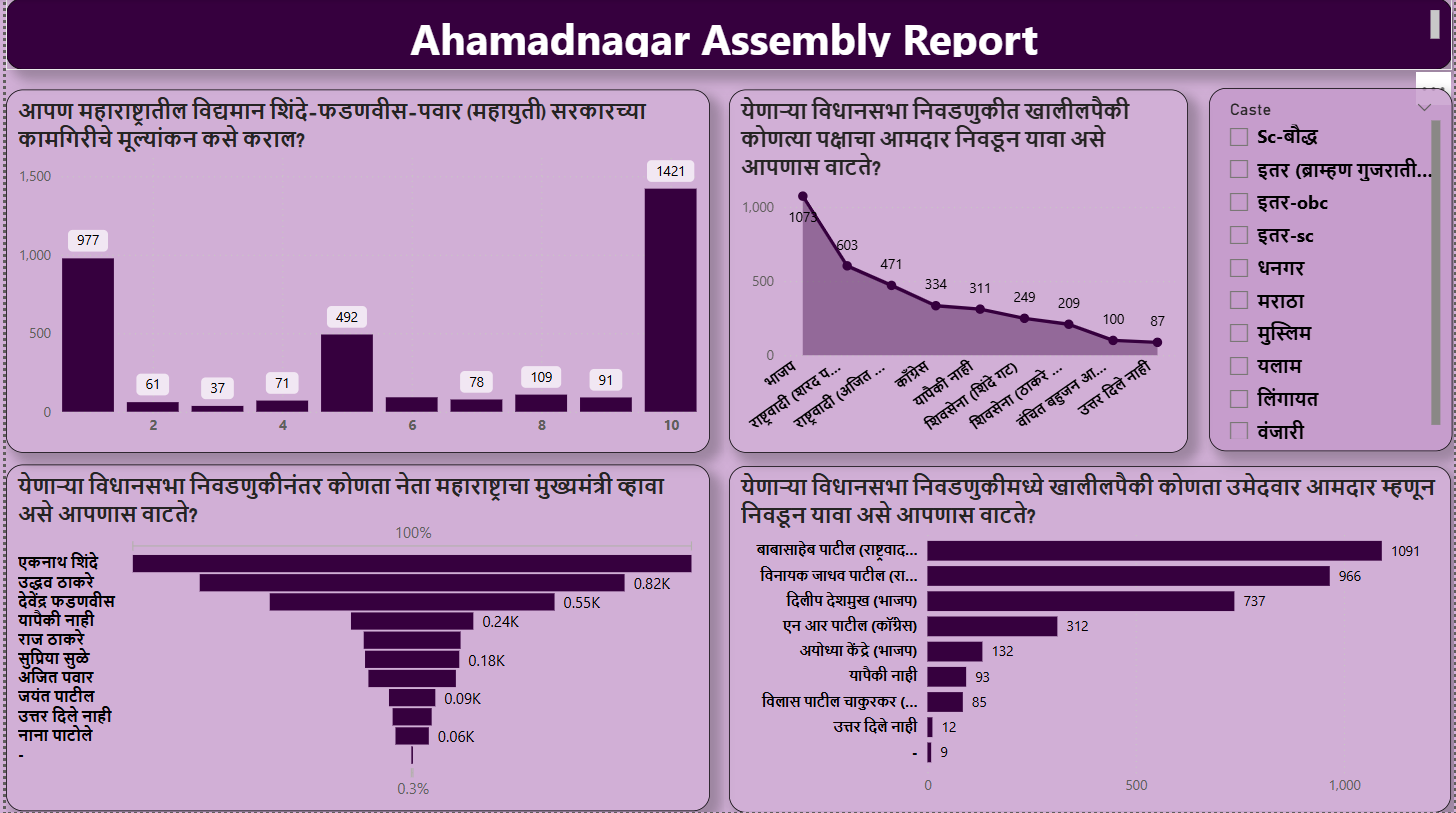

What the dashboard file says about the page in this screenshot:
{"tool":"powerbi","page":{"name":"Dashboard","canvas":[1280,720],"ordinal":0},"visuals":[{"type":"textbox","box":[0,0,1279.5,63.6],"z":0},{"type":"clusteredBarChart","title":" येणाऱ्या विधानसभा निवडणुकीमध्ये खालीलपैकी कोणता उमेदवार आमदार म्हणून निवडून यावा असे आपणास वाटते? ","fields":{"Y":["CountNonNull(Ahmedpur Assembly A Type 25-07-.येणाऱ्या विधानसभा निवडणुकीमध्ये खालीलपैकी कोणता उमेदवार आमदार म्हणून निवडून"],"Category":["Ahmedpur Assembly A Type 25-07-.येणाऱ्या विधानसभा निवडणुकीमध्ये खालीलपैकी कोणता उमेदवार आमदार म्हणून निवडून यावा असे आपण"]},"box":[640.1,413.6,638.7,306.9],"z":1000},{"type":"lineClusteredColumnComboChart","title":"आपण महाराष्ट्रातील विद्यमान शिंदे-फडणवीस-पवार (महायुती) सरकारच्या कामगिरीचे मूल्यांकन कसे कराल? ","fields":{"Category":["Ahmedpur Assembly A Type 25-07-.आपण महाराष्ट्रातील विद्यमान शिंदे-फडणवीस-पवार (महायुती) सरकारच्या कामगिरीचे मूल्यांकन कस"],"Y":["CountNonNull(Ahmedpur Assembly A Type 25-07-.आपण महाराष्ट्रातील विद्यमान शिंदे-फडणवीस-पवार (महायुती) सरकारच्या कामगिरीचे"]},"box":[0,80.4,622.6,321.5],"z":2000},{"type":"funnel","title":" येणाऱ्या विधानसभा निवडणुकीनंतर कोणता नेता महाराष्ट्राचा मुख्यमंत्री व्हावा असे आपणास वाटते? ","fields":{"Category":["Ahmedpur Assembly A Type 25-07-.येणाऱ्या विधानसभा निवडणुकीनंतर खालीलपैकी कोणता नेता महाराष्ट्राचा मुख्यमंत्री व्हावा असे"],"Y":["CountNonNull(Ahmedpur Assembly A Type 25-07-.येणाऱ्या विधानसभा निवडणुकीनंतर खालीलपैकी कोणता नेता महाराष्ट्राचा मुख्यमंत्"]},"box":[0,412.1,622.6,306.9],"z":3000},{"type":"slicer","fields":{"Values":["Ahmedpur Assembly A Type 25-07-.Caste"]},"box":[1064.5,80.3,215,321],"z":4000},{"type":"lineChart","title":"येणाऱ्या विधानसभा निवडणुकीत खालीलपैकी कोणत्या पक्षाचा आमदार निवडून यावा असे आपणास वाटते? ","fields":{"Category":["Ahmedpur Assembly A Type 25-07-.येणाऱ्या विधानसभा निवडणुकीत खालीलपैकी कोणत्या पक्षाचा आमदार निवडून यावा असे आपणास वाटते?"],"Y":["CountNonNull(Ahmedpur Assembly A Type 25-07-.येणाऱ्या विधानसभा निवडणुकीत खालीलपैकी कोणत्या पक्षाचा आमदार निवडून यावा असे"]},"box":[640.1,80.4,406.3,321.5],"z":5000}]}

Visuals, with their boxes in screenshot pixels (x1, y1, x2, y2), scaled from the page's 1280x720 canvas onto the 1456x813 screenshot:
textbox: [x1=0, y1=0, x2=1455, y2=72]
" येणाऱ्या विधानसभा निवडणुकीमध्ये खालीलपैकी कोणता उमेदवार आमदार म्हणून निवडून यावा असे आपणास वाटते? " clusteredBarChart: [x1=728, y1=467, x2=1455, y2=812]
"आपण महाराष्ट्रातील विद्यमान शिंदे-फडणवीस-पवार (महायुती) सरकारच्या कामगिरीचे मूल्यांकन कसे कराल? " lineClusteredColumnComboChart: [x1=0, y1=91, x2=708, y2=454]
" येणाऱ्या विधानसभा निवडणुकीनंतर कोणता नेता महाराष्ट्राचा मुख्यमंत्री व्हावा असे आपणास वाटते? " funnel: [x1=0, y1=465, x2=708, y2=812]
slicer - Ahmedpur Assembly A Type 25-07-.Caste: [x1=1211, y1=91, x2=1455, y2=453]
"येणाऱ्या विधानसभा निवडणुकीत खालीलपैकी कोणत्या पक्षाचा आमदार निवडून यावा असे आपणास वाटते? " lineChart: [x1=728, y1=91, x2=1190, y2=454]
